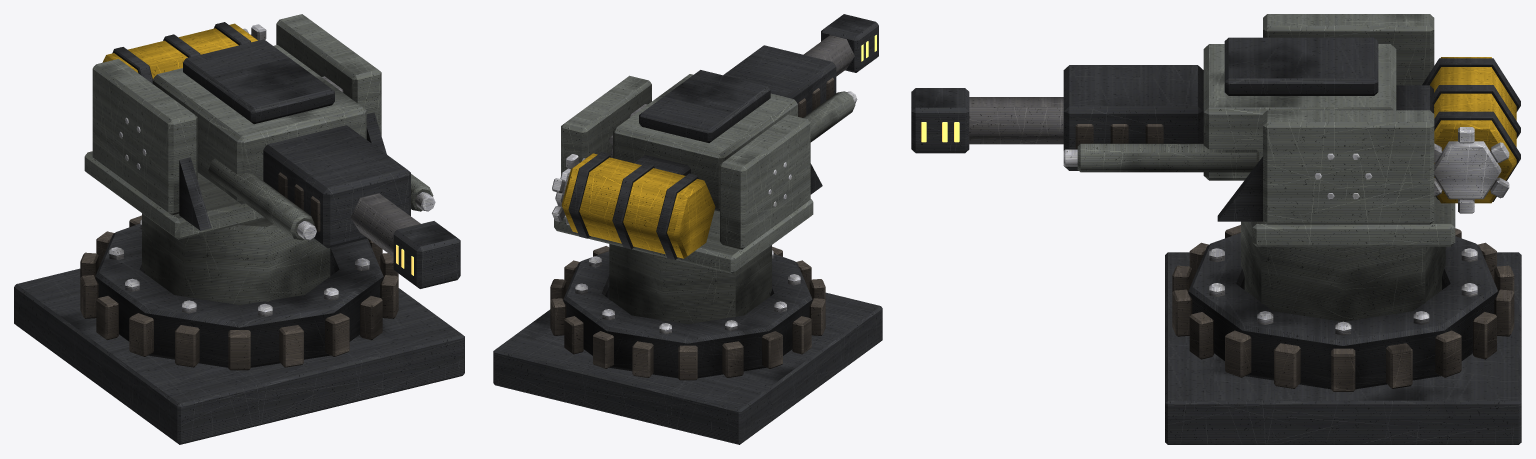
The model's file is R4W_Basic_LOD1.glb.
3 views of the same model, side by side, from view 1: azimuth 30°, elevation 25°; view 2: azimuth 150°, elevation 25°; view 3: azimuth 270°, elevation 25° (orthographic). The views are drawn at different scales.
Visible parts, largest first — view 1: R4W_Basic_LOD1; view 2: R4W_Basic_LOD1; view 3: R4W_Basic_LOD1.
Boxes of the visible parts, x1,y1,x2,y2 form: R4W_Basic_LOD1: (14, 14, 464, 444); R4W_Basic_LOD1: (493, 14, 882, 444); R4W_Basic_LOD1: (911, 14, 1521, 444).
Size of the model in its own units: 0.51 by 0.494 by 0.873.
6 materials, 5 textured.
